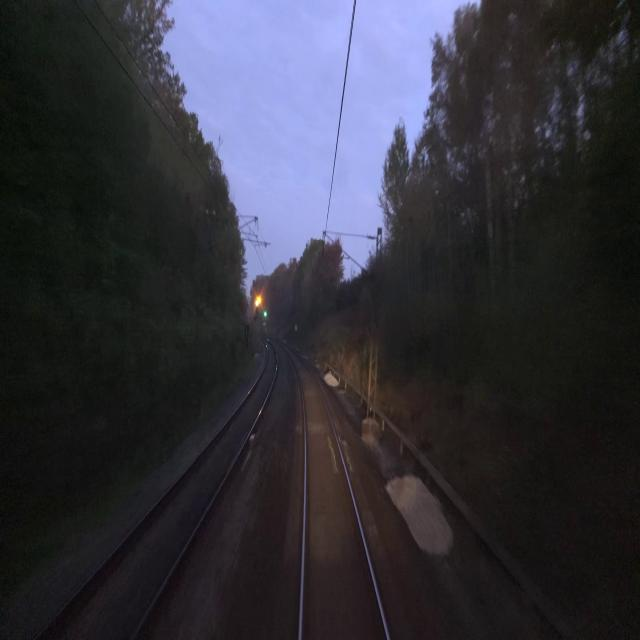rail-track: (43, 342, 275, 639), (290, 351, 386, 639)
